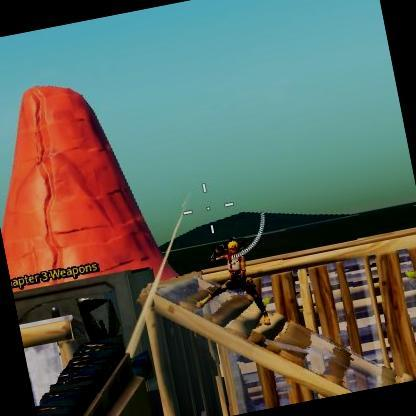person: (212, 239, 258, 317)
